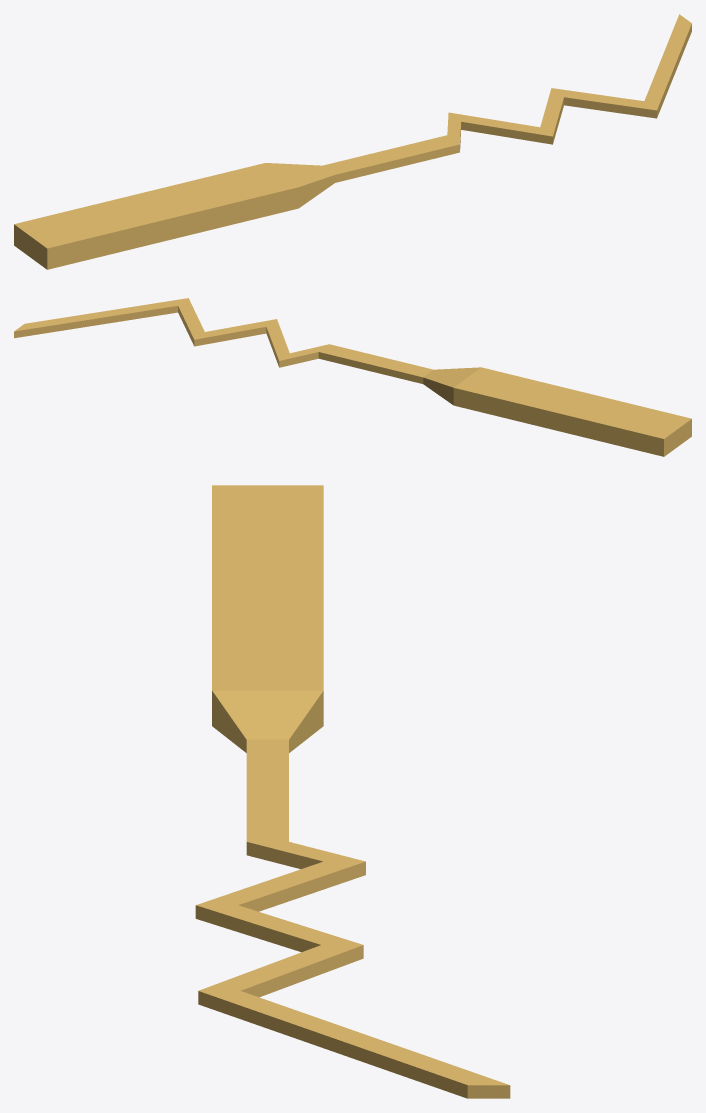
The model's file is lockpick.fbx.
3 renders of one model, top to bottom at view 1: azimuth 30°, elevation 25°; view 2: azimuth 150°, elevation 25°; view 3: azimuth 270°, elevation 25°, orthographic. The views are drawn at different scales.
Visible parts, largest first — view 1: Cube; view 2: Cube; view 3: Cube.
Part boxes in pixels (box(x1,y1,x2,y2)): Cube: box(14, 14, 691, 269); Cube: box(14, 298, 691, 456); Cube: box(195, 485, 510, 1098).
Size of the model in its own units: 2502 by 70.68 by 564.
